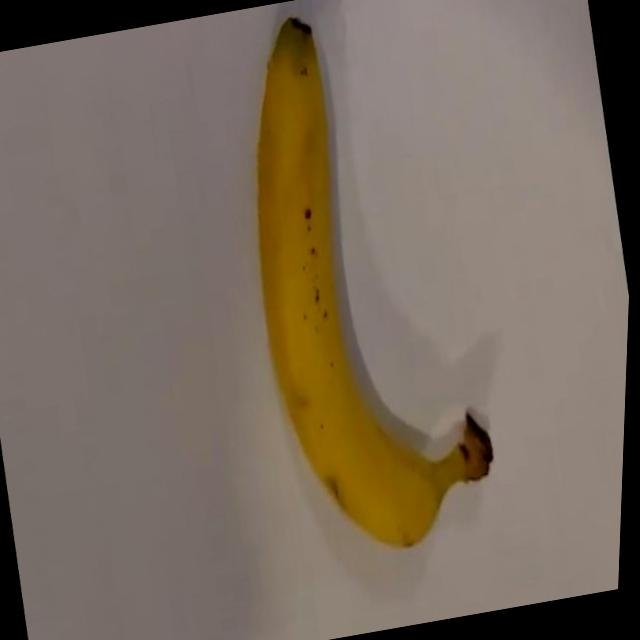Banana: (208, 0, 524, 566)
